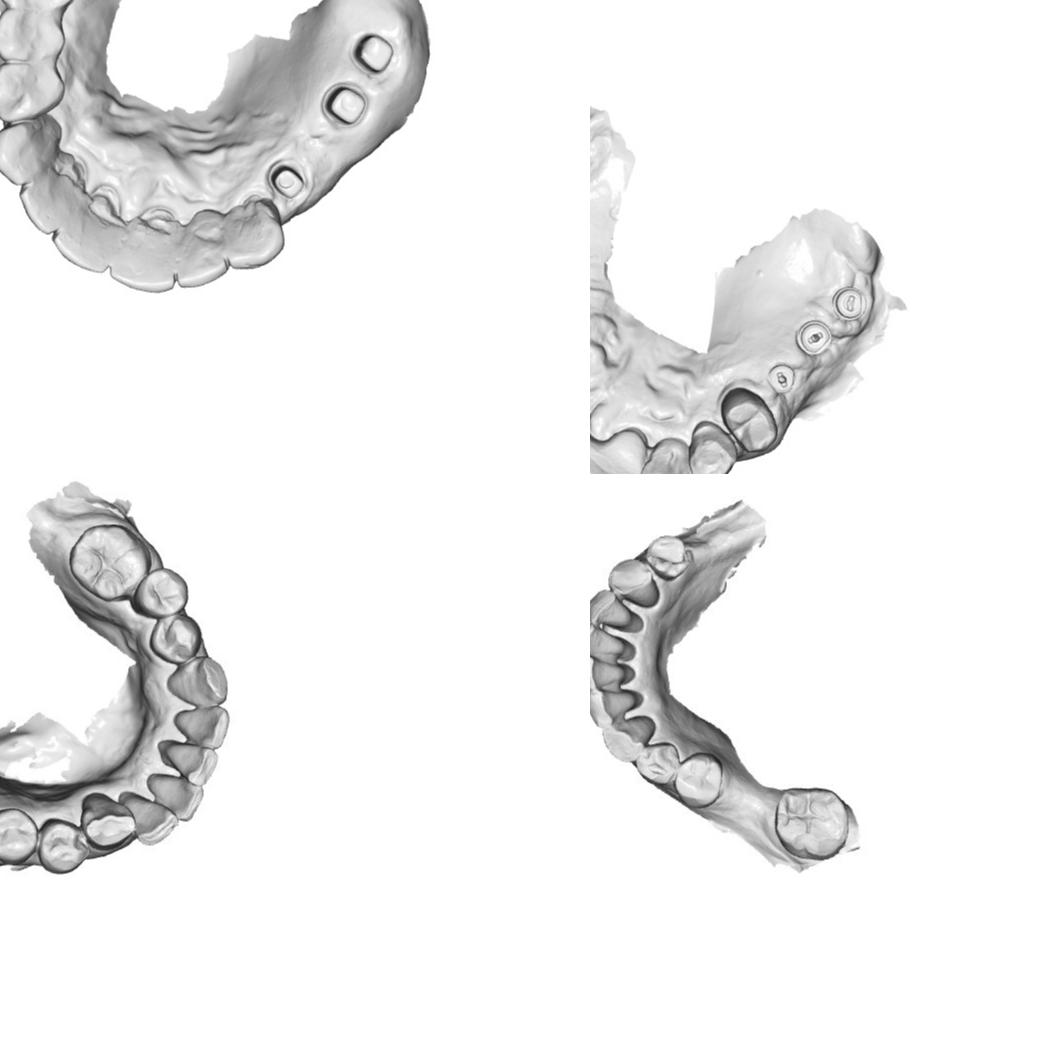abutment: (321, 81, 369, 130), (350, 29, 397, 76), (266, 159, 307, 204)
canine: (0, 116, 62, 189), (224, 208, 286, 271), (169, 660, 229, 710), (606, 556, 660, 610), (83, 793, 135, 847), (688, 419, 738, 474), (601, 714, 658, 762)
implant_minus: (830, 285, 868, 322), (795, 319, 832, 356), (766, 363, 796, 394)
incisor: (106, 232, 182, 294), (174, 221, 229, 290), (17, 175, 78, 237), (50, 215, 110, 274), (122, 793, 176, 844), (176, 702, 228, 752), (590, 428, 646, 474), (160, 737, 218, 781), (149, 771, 200, 818), (590, 684, 639, 728), (590, 586, 636, 632), (639, 436, 694, 474), (590, 621, 629, 665), (590, 656, 631, 697)
molar: (67, 520, 148, 606), (773, 783, 851, 863)
premolar: (0, 57, 67, 125), (0, 5, 68, 64), (720, 385, 778, 453), (146, 617, 207, 671), (671, 750, 723, 810), (140, 573, 192, 619), (642, 535, 691, 581), (634, 739, 681, 786), (0, 808, 36, 862), (44, 826, 85, 871)
